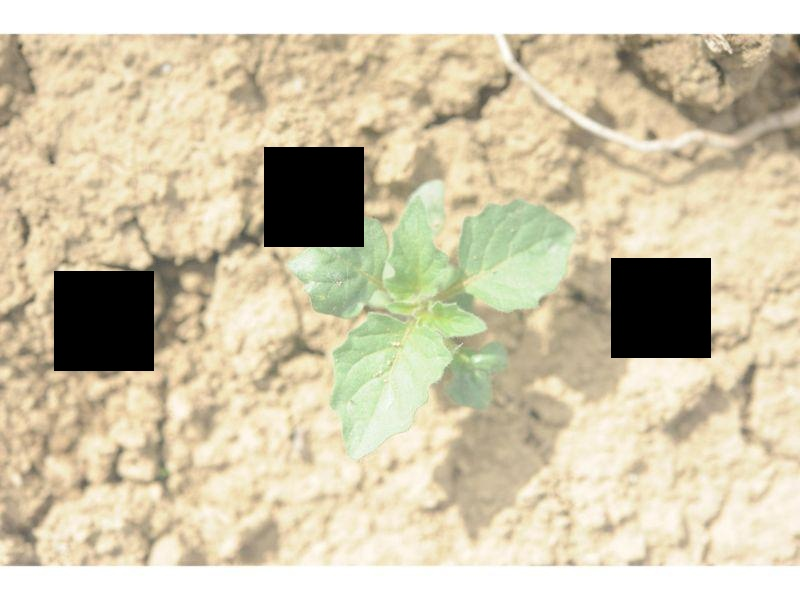nightshade: (286, 181, 578, 460)
